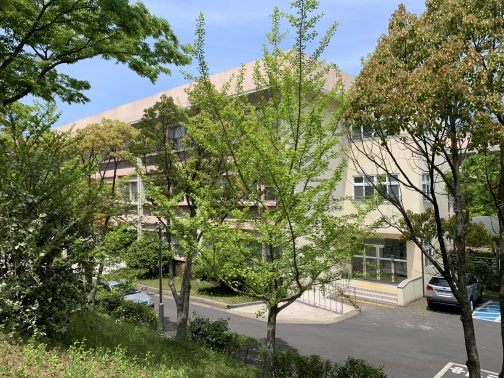College Of Education: (45, 58, 455, 324)
